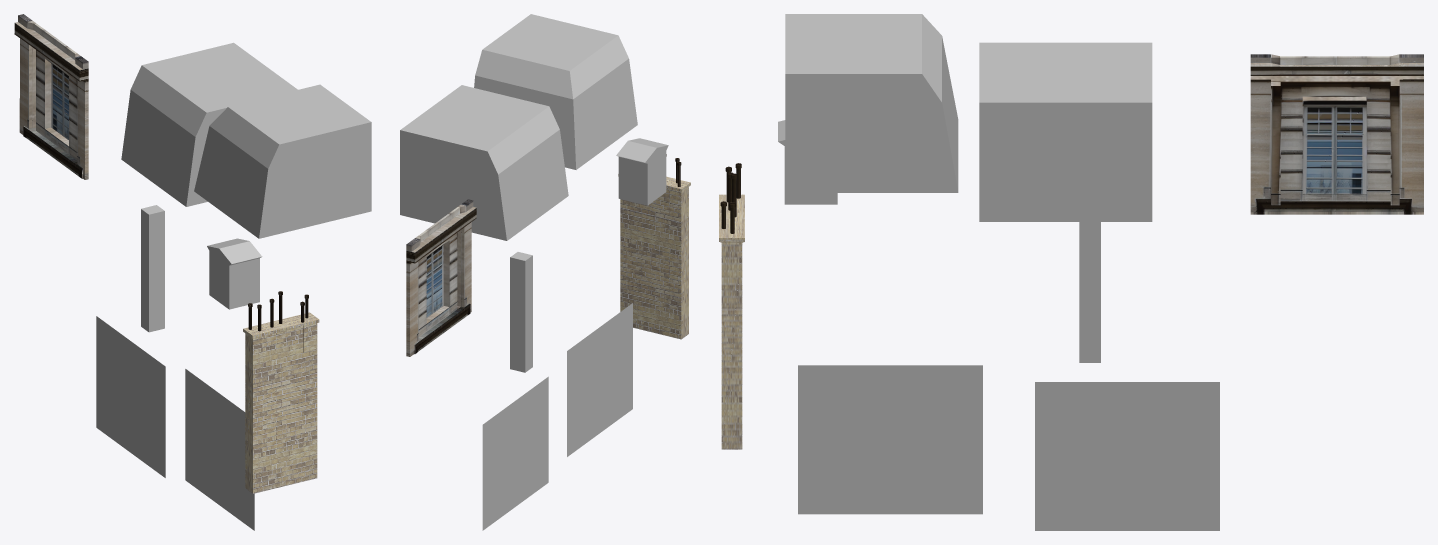
File: BuldingAModules.fbx
3 views of the same model, side by side, from view 1: azimuth 30°, elevation 25°; view 2: azimuth 150°, elevation 25°; view 3: azimuth 270°, elevation 25° (orthographic). The views are drawn at different scales.
Parts seen in each view (by area): view 1: pCube22, pCube21, pCylinder7, pPlane135, pPlane138, pPlane136, pPlane139, pPlane137; view 2: pCube21, pCube22, pCylinder7, pPlane135, pPlane138, pPlane136, pPlane139, pPlane137; view 3: pCube21, pCube22, pPlane135, pPlane136, pPlane138, pCylinder7, pPlane137, pPlane139.
Part boxes in pixels (x1,y1,x2,y2): pCube22: (194, 84, 371, 238); pCube21: (121, 42, 297, 206); pCylinder7: (243, 291, 319, 493); pPlane135: (14, 14, 88, 179); pPlane138: (96, 316, 165, 477); pPlane136: (185, 369, 254, 530); pPlane139: (207, 238, 262, 309); pPlane137: (141, 205, 164, 332); pCube21: (400, 85, 568, 240); pCube22: (474, 14, 637, 169); pCylinder7: (618, 154, 690, 339); pPlane135: (406, 199, 476, 356); pPlane138: (482, 376, 548, 530); pPlane136: (567, 303, 632, 456); pPlane139: (616, 138, 668, 205); pPlane137: (510, 252, 532, 372); pCube21: (979, 42, 1152, 221); pCube22: (785, 14, 958, 192); pPlane135: (1250, 54, 1423, 214); pPlane136: (798, 365, 982, 514); pPlane138: (1035, 382, 1219, 530); pCylinder7: (719, 163, 744, 449); pPlane137: (1079, 222, 1100, 362); pPlane139: (778, 120, 837, 204).
Bounding box in the file's own units: 94.05 × 249 × 300.
